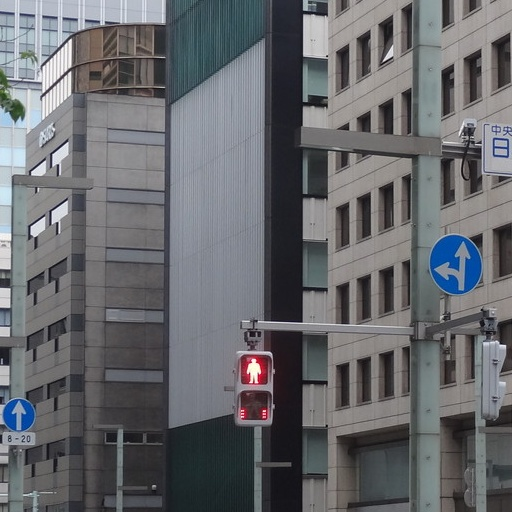Pedestrian_Signal_Red: (231, 348, 277, 427)
